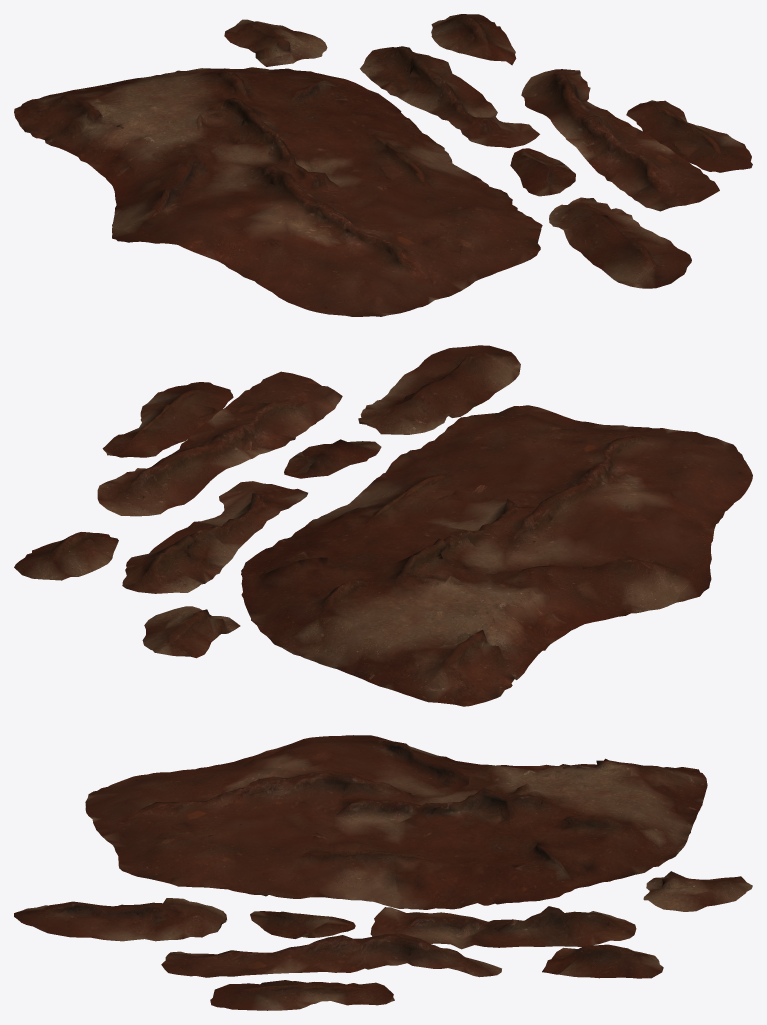
Rendered from root_cluster_02.glb.
3 renders of one model, top to bottom at view 1: azimuth 30°, elevation 25°; view 2: azimuth 150°, elevation 25°; view 3: azimuth 270°, elevation 25°, orthographic. The views are drawn at different scales.
Visible parts, largest first — view 1: root_cluster_02_a, root_cluster_02_f, root_cluster_02_d, root_cluster_02_b, root_cluster_02_g, root_cluster_02_e, root_cluster_02_h, root_cluster_02_c; view 2: root_cluster_02_a, root_cluster_02_f, root_cluster_02_d, root_cluster_02_b, root_cluster_02_g, root_cluster_02_h, root_cluster_02_e, root_cluster_02_c; view 3: root_cluster_02_a, root_cluster_02_f, root_cluster_02_d, root_cluster_02_b, root_cluster_02_g, root_cluster_02_h, root_cluster_02_e, root_cluster_02_c.
Boxes of the visible parts, left/top/right/bottom form: root_cluster_02_a: left=14, top=67, right=542, bottom=316; root_cluster_02_f: left=521, top=69, right=719, bottom=211; root_cluster_02_d: left=360, top=46, right=539, bottom=147; root_cluster_02_b: left=549, top=197, right=691, bottom=288; root_cluster_02_g: left=626, top=100, right=752, bottom=172; root_cluster_02_e: left=224, top=19, right=327, bottom=66; root_cluster_02_h: left=431, top=14, right=516, bottom=65; root_cluster_02_c: left=510, top=148, right=575, bottom=196; root_cluster_02_a: left=241, top=405, right=752, bottom=706; root_cluster_02_f: left=97, top=371, right=342, bottom=516; root_cluster_02_d: left=122, top=481, right=307, bottom=593; root_cluster_02_b: left=358, top=345, right=520, bottom=434; root_cluster_02_g: left=102, top=382, right=233, bottom=457; root_cluster_02_h: left=14, top=532, right=118, bottom=580; root_cluster_02_e: left=142, top=606, right=240, bottom=658; root_cluster_02_c: left=284, top=439, right=381, bottom=478; root_cluster_02_a: left=85, top=735, right=707, bottom=909; root_cluster_02_f: left=161, top=933, right=501, bottom=977; root_cluster_02_d: left=370, top=906, right=636, bottom=949; root_cluster_02_b: left=14, top=898, right=226, bottom=941; root_cluster_02_g: left=210, top=980, right=394, bottom=1010; root_cluster_02_h: left=542, top=944, right=663, bottom=978; root_cluster_02_e: left=643, top=871, right=752, bottom=911; root_cluster_02_c: left=250, top=911, right=355, bottom=938.
Bounding box in the file's own units: 2.38 × 0.1967 × 2.71.
Materials: 1 (1 with a texture image).
